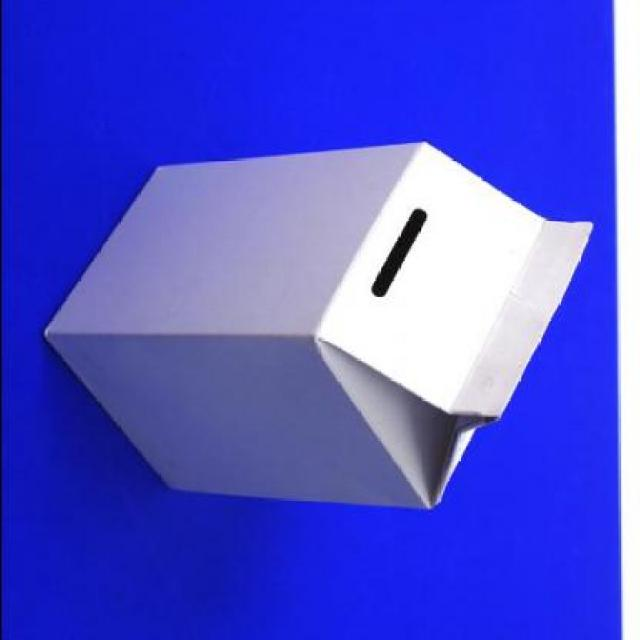non_white_jug: (20, 133, 609, 524)
